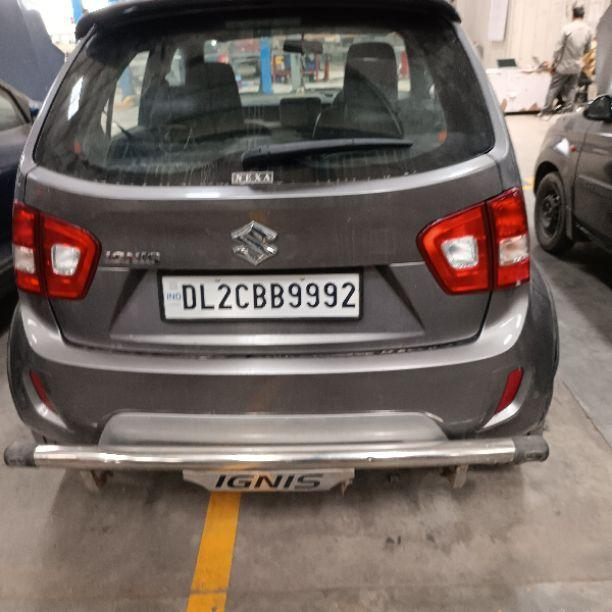license_plate: (157, 269, 363, 321)
